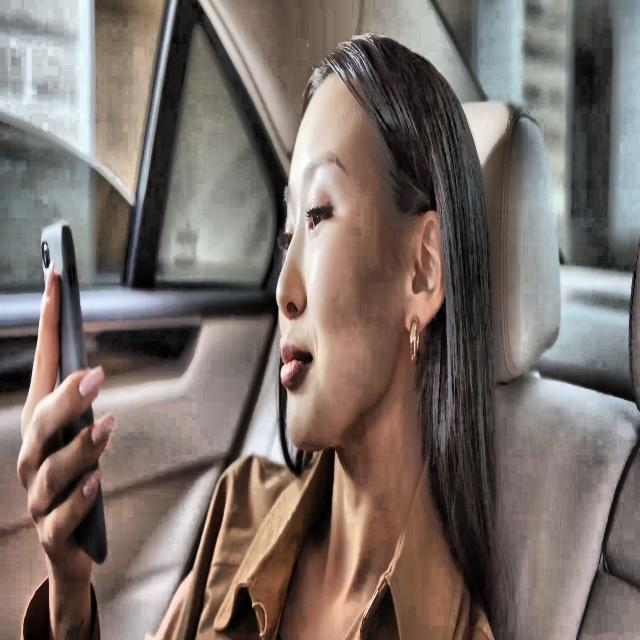Phone: (36, 220, 110, 570)
